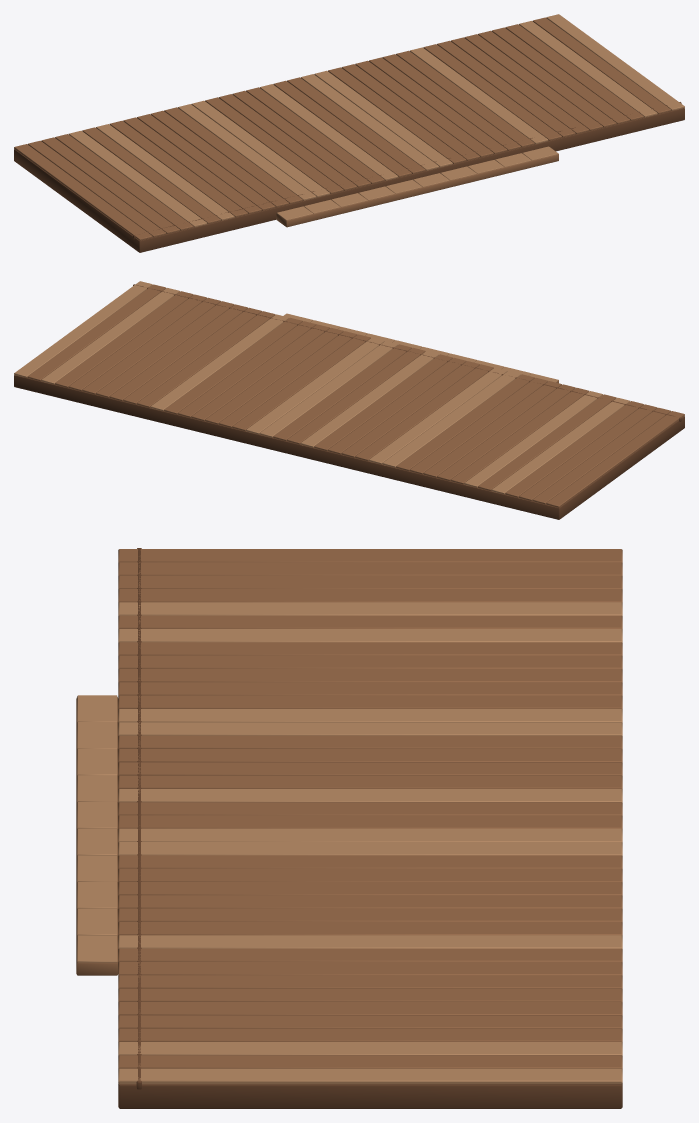
Rendered from wedding-deck.glb.
3 views of the same model, one above another, from view 1: azimuth 30°, elevation 25°; view 2: azimuth 150°, elevation 25°; view 3: azimuth 270°, elevation 25° (orthographic). The views are drawn at different scales.
Visible parts, largest first — view 1: wedding-deck; view 2: wedding-deck; view 3: wedding-deck.
Boxes of the visible parts, x1,y1,x2,y2 form: wedding-deck: (14, 14, 684, 252); wedding-deck: (14, 281, 684, 519); wedding-deck: (76, 548, 622, 1108).
Size of the model in its own units: 12.04 by 0.3 by 5.2.
